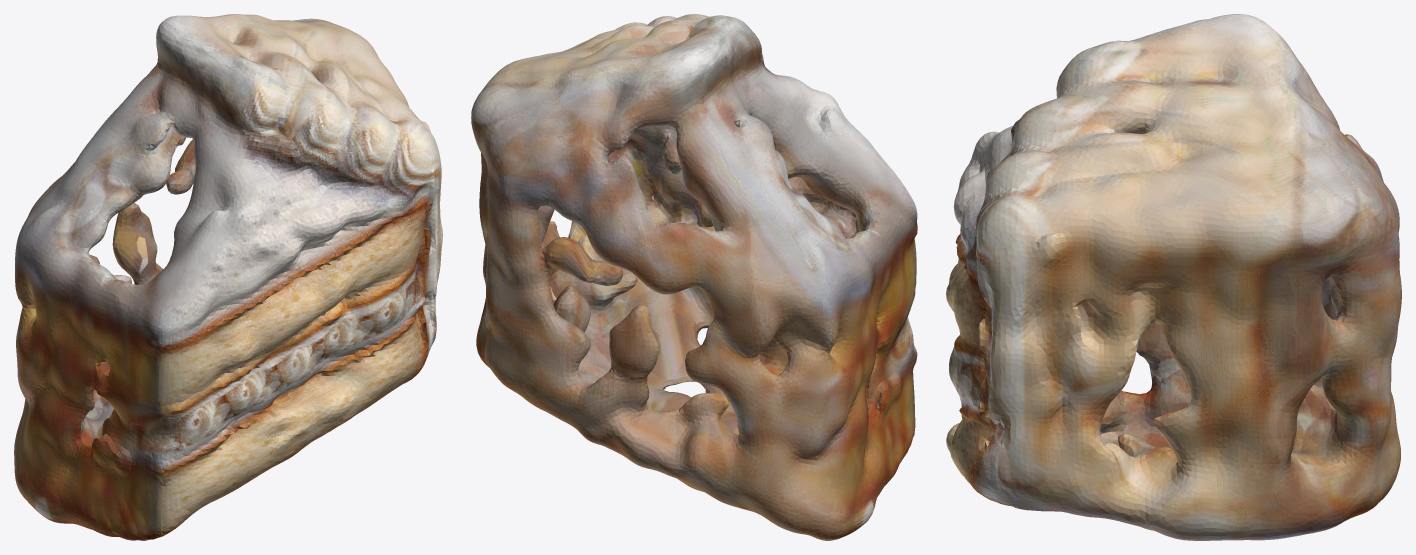
The model's file is A_piece_of_soft_face_cake.glb.
3 renders of one model, left to right at view 1: azimuth 30°, elevation 25°; view 2: azimuth 150°, elevation 25°; view 3: azimuth 270°, elevation 25°, orthographic. The views are drawn at different scales.
Size of the model in its own units: 1.12 by 1.37 by 0.9936.
1 material, 1 textured.
